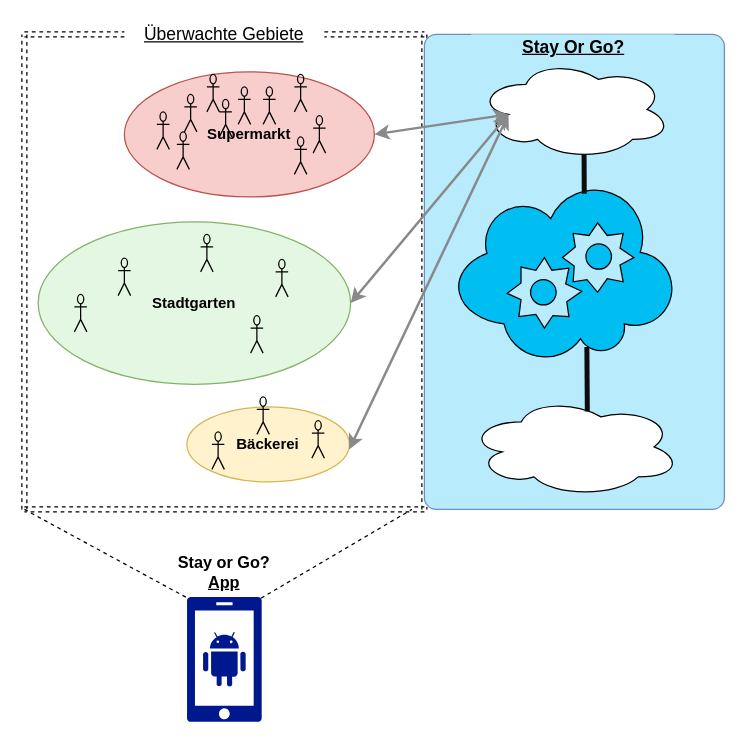
The diagram is 746 pixels wide and 743 high, and some of its shapes have lost their labels. Here are the shapes that lost their labels. From the top down, the box of each, then its label:
(476, 58, 671, 159): Gebietsverwaltung
(467, 396, 681, 497): Nutzerverwaltung
